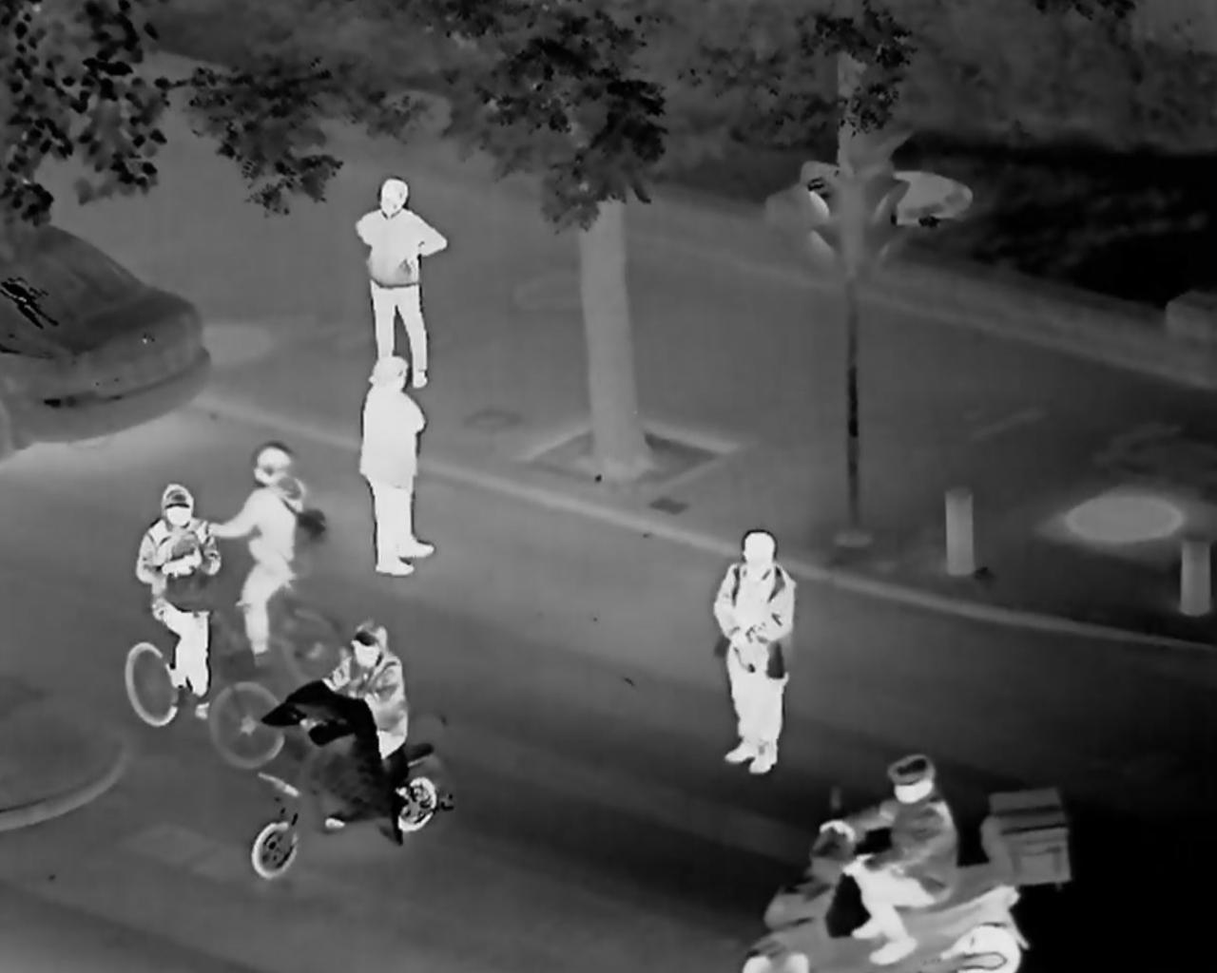person: (327, 349, 468, 600), (843, 750, 1002, 969), (354, 165, 484, 353), (726, 531, 820, 778), (127, 477, 217, 711), (220, 460, 327, 654), (344, 627, 436, 804)
